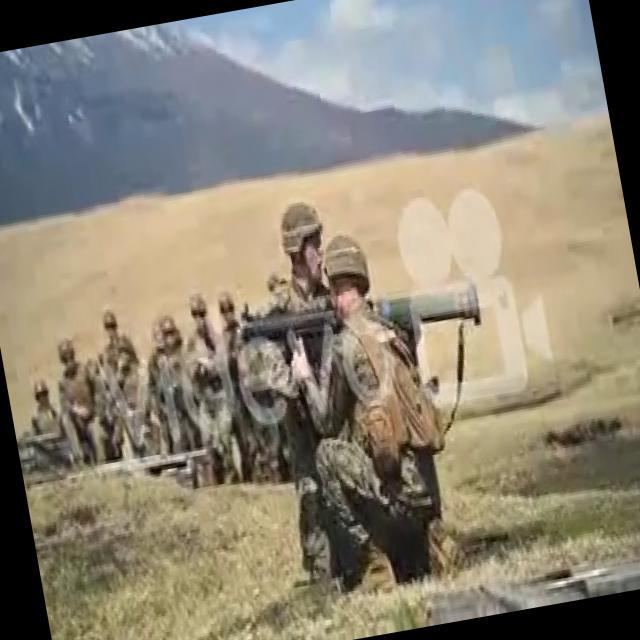rocket: (237, 270, 480, 366)
